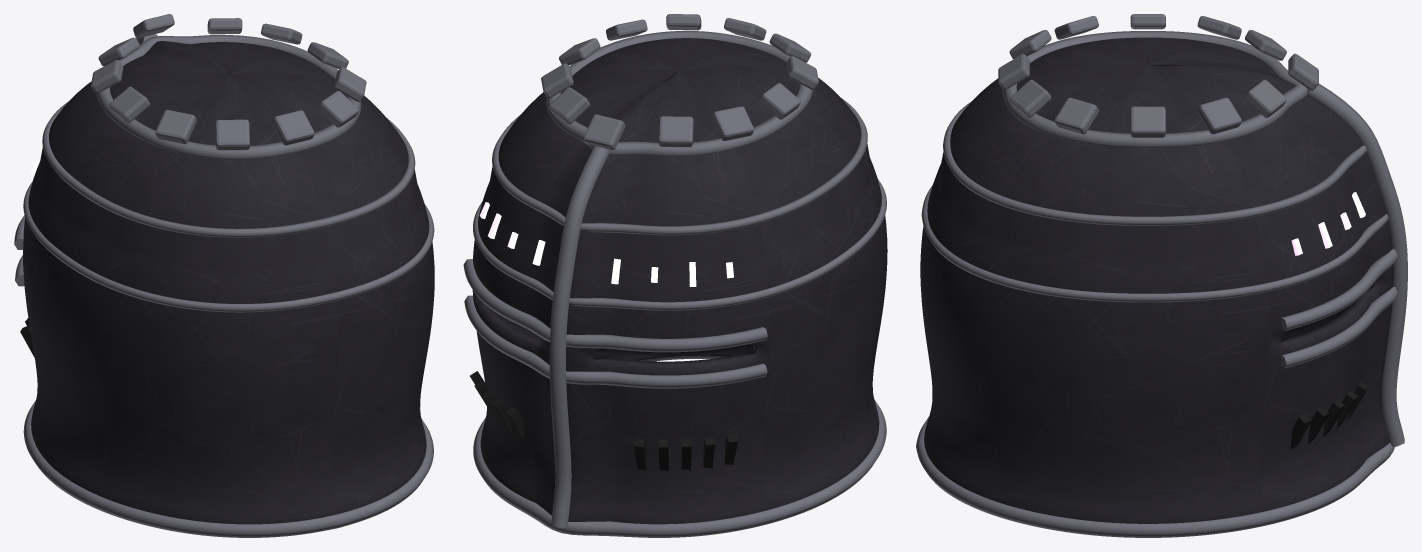
The model's file is casco_gran_yelmo.glb.
3 views of the same model, side by side, from view 1: azimuth 30°, elevation 25°; view 2: azimuth 150°, elevation 25°; view 3: azimuth 270°, elevation 25° (orthographic). The views are drawn at different scales.
Visible parts, largest first — view 1: Casco_gran_yelmo; view 2: Casco_gran_yelmo; view 3: Casco_gran_yelmo.
Part boxes in pixels (x1,y1,x2,y2): Casco_gran_yelmo: [14, 14, 434, 537]; Casco_gran_yelmo: [463, 14, 887, 537]; Casco_gran_yelmo: [916, 14, 1407, 537].
Size of the model in its own units: 0.2559 by 0.2688 by 0.3052.
Materials: 4 (2 with a texture image).
